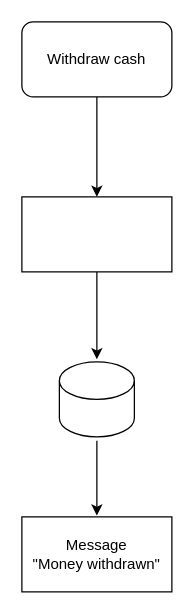
The diagram is 194 pixels wide and 614 high, and some of its shapes have lost their labels. Each missing label, with the centre of its shape:
"Db" belongs at [96,399].
"Enter Amount" belongs at [96,234].
